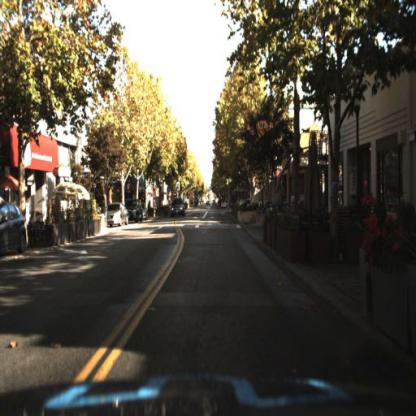car: (1, 203, 30, 259), (108, 200, 135, 226), (105, 202, 128, 232), (126, 200, 144, 223), (170, 197, 188, 220), (128, 199, 143, 222), (173, 195, 187, 216)
